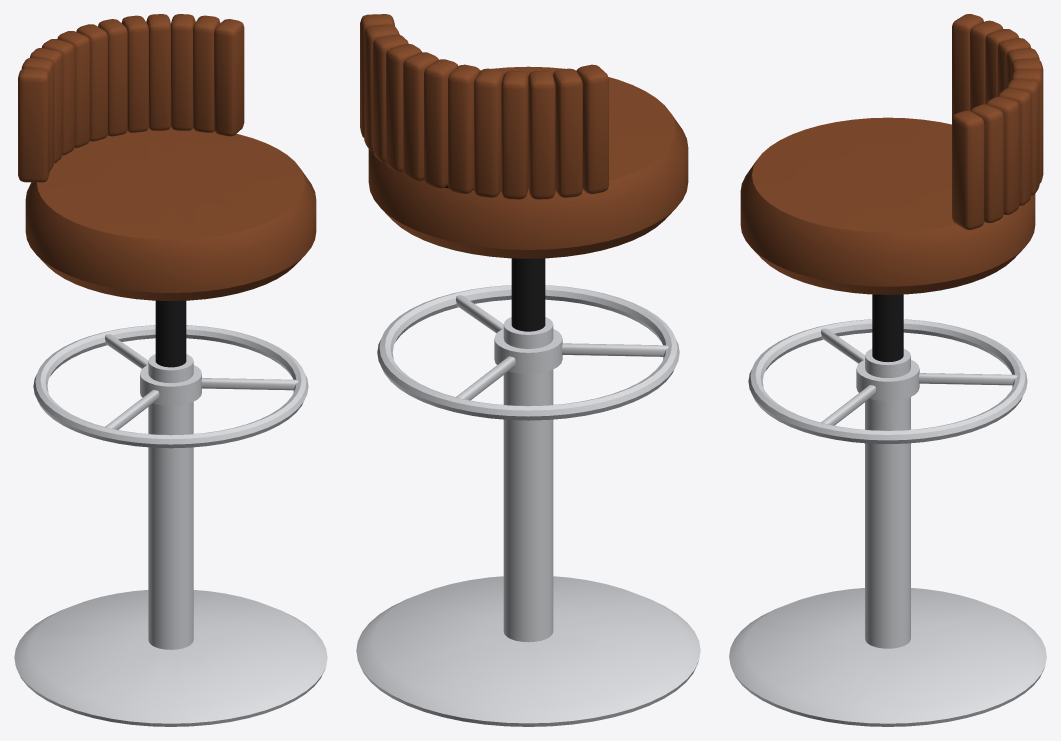
Rendered from assistant-stool.glb.
The picture shows the model from 3 angles, left to right: view 1: azimuth 30°, elevation 25°; view 2: azimuth 150°, elevation 25°; view 3: azimuth 270°, elevation 25°; orthographic projection. The views are drawn at different scales.
Parts seen in each view (by area): view 1: Upholstered swivel seat with low back - Upholstery, cognac f, Chrome base, gas lift, footring and swivel plate - Chrome / , Chrome base, gas lift, footring and swivel plate - Black pow; view 2: Chrome base, gas lift, footring and swivel plate - Chrome / , Upholstered swivel seat with low back - Upholstery, cognac f, Chrome base, gas lift, footring and swivel plate - Black pow; view 3: Chrome base, gas lift, footring and swivel plate - Chrome / , Upholstered swivel seat with low back - Upholstery, cognac f, Chrome base, gas lift, footring and swivel plate - Black pow.
Part boxes in pixels (x1,y1,x2,y2): Upholstered swivel seat with low back - Upholstery, cognac f: [18, 14, 316, 300]; Chrome base, gas lift, footring and swivel plate - Chrome / : [14, 325, 327, 726]; Chrome base, gas lift, footring and swivel plate - Black pow: [155, 300, 186, 367]; Chrome base, gas lift, footring and swivel plate - Chrome / : [356, 285, 700, 726]; Upholstered swivel seat with low back - Upholstery, cognac f: [360, 14, 688, 258]; Chrome base, gas lift, footring and swivel plate - Black pow: [445, 186, 545, 331]; Chrome base, gas lift, footring and swivel plate - Chrome / : [729, 319, 1046, 726]; Upholstered swivel seat with low back - Upholstery, cognac f: [740, 14, 1043, 294]; Chrome base, gas lift, footring and swivel plate - Black pow: [872, 294, 903, 361].
Bounding box in the file's own units: 0.444 × 0.915 × 0.444.
